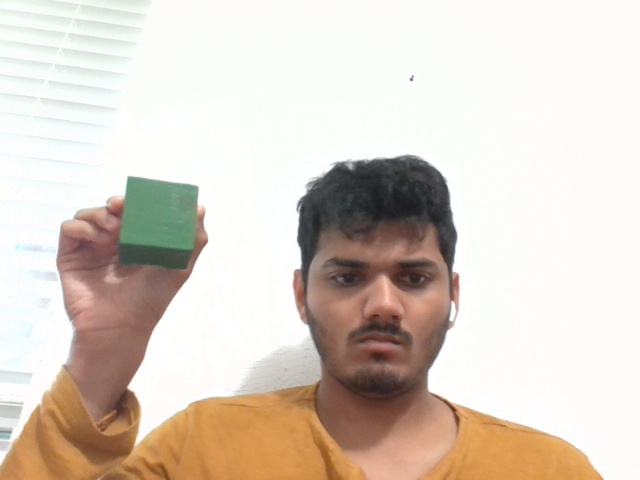GreenBlock: (119, 174, 194, 269)
